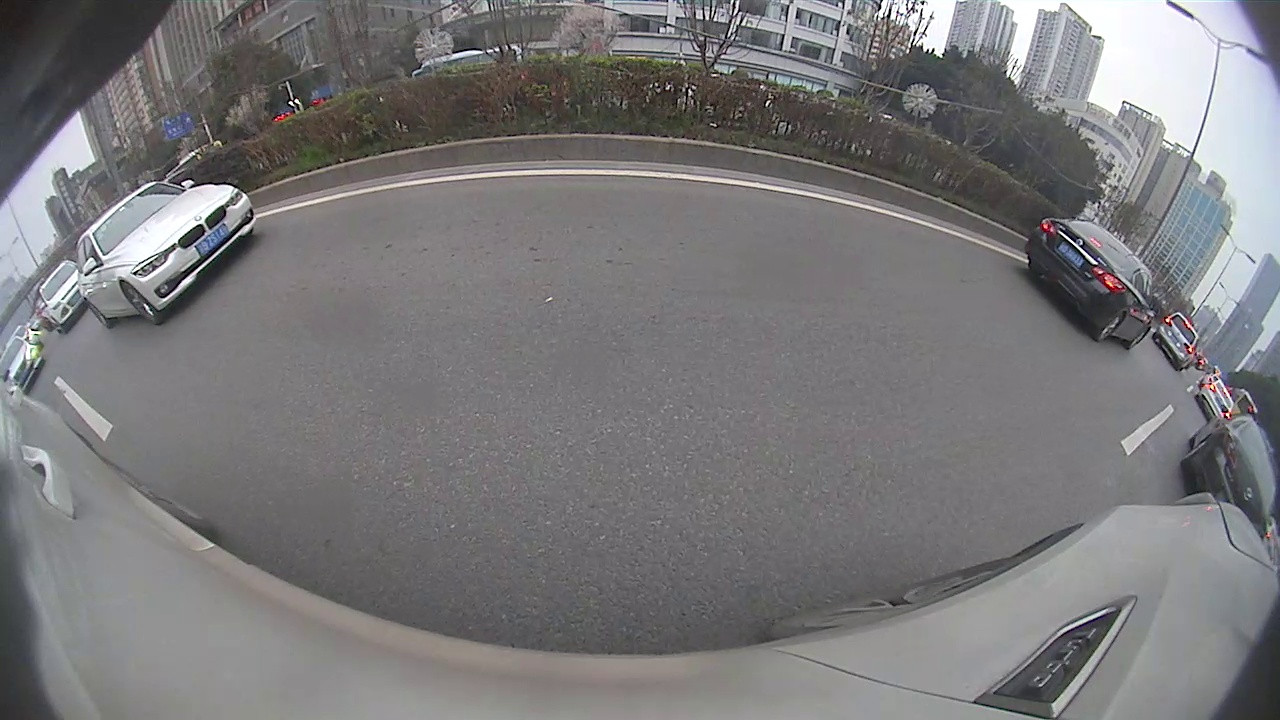car: (74, 178, 258, 331), (1023, 216, 1159, 351), (1178, 401, 1278, 536), (36, 262, 88, 333), (1151, 311, 1202, 372), (1193, 378, 1237, 423)
front: (118, 280, 162, 328)
rear: (1093, 310, 1126, 345)
